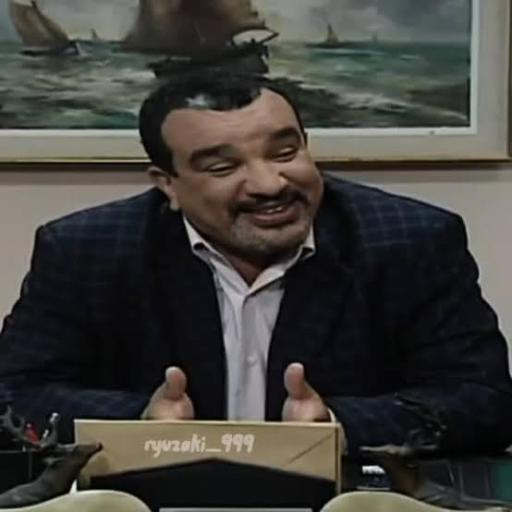slimane: (140, 72, 323, 261)
